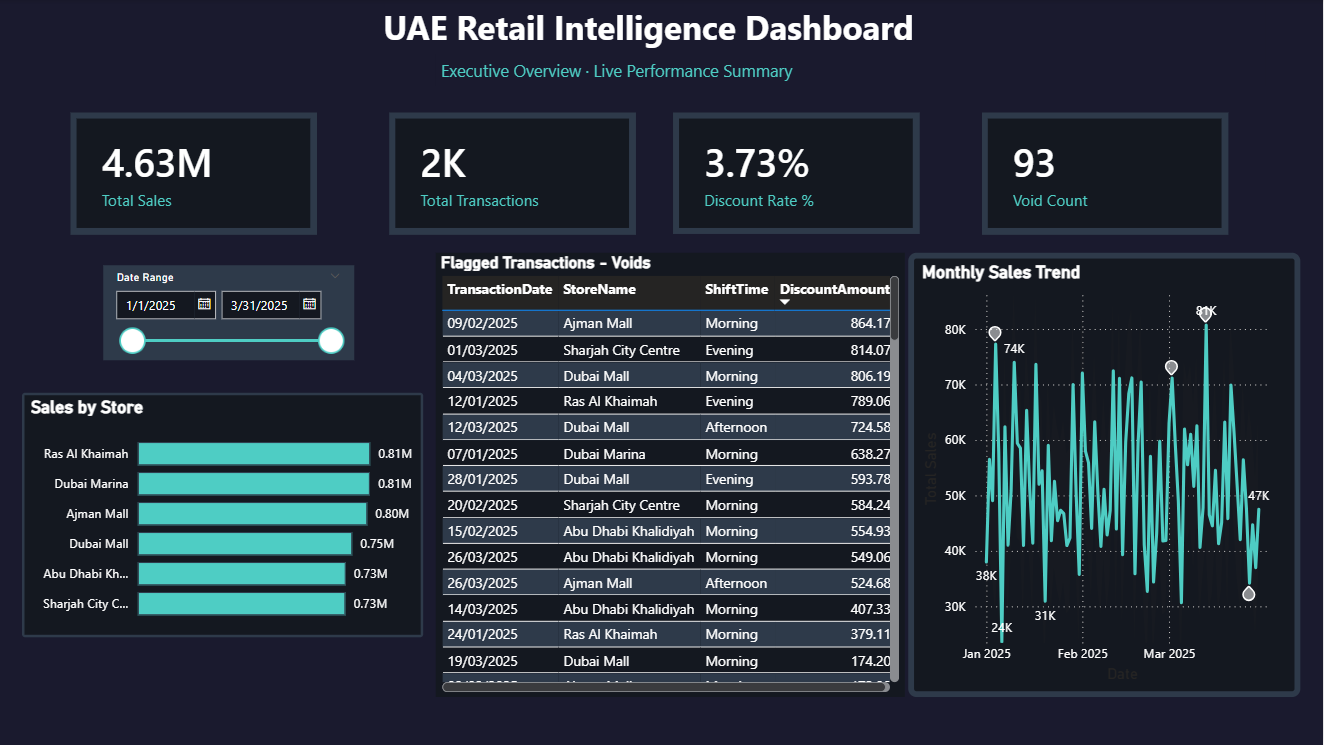

This screenshot's page, from the dashboard's own definition file:
{"tool":"powerbi","page":{"name":"Executive Overview","canvas":[1280,720],"ordinal":0},"visuals":[{"type":"cardVisual","fields":{"Data":["_Measures.Total Sales"]},"box":[71.2,110,237.5,117.5],"z":0},{"type":"textbox","box":[33.8,0,1190,103.8],"z":1000},{"type":"textbox","box":[423.8,52.5,656.2,147.5],"z":2000},{"type":"clusteredBarChart","title":"Sales by Store","fields":{"Category":["UAE_Retail_Transactions.StoreName"],"Y":["_Measures.Total Sales"]},"box":[23.8,380,387.5,236.2],"z":3000},{"type":"lineChart","title":"Monthly Sales Trend","fields":{"Y":["_Measures.Total Sales"],"Category":["DateTable.Date"]},"box":[880,245,378.8,428.8],"z":4000},{"type":"tableEx","title":"Flagged Transactions - Voids","fields":{"Values":["UAE_Retail_Transactions.TransactionDate","UAE_Retail_Transactions.StoreName","UAE_Retail_Transactions.ShiftTime","UAE_Retail_Transactions.DiscountAmount"]},"box":[423.8,245,452.5,428.8],"z":5000},{"type":"slicer","fields":{"Values":["DateTable.Date"]},"box":[102.5,257.5,241.2,91.2],"z":6000},{"type":"cardVisual","fields":{"Data":["_Measures.Total Transactions"]},"box":[378.8,110,237.5,117.5],"z":7000},{"type":"cardVisual","fields":{"Data":["_Measures.Discount Rate %"]},"box":[652.5,110,237.5,117],"z":8000},{"type":"cardVisual","fields":{"Data":["_Measures.Void Count"]},"box":[951.2,110,237.5,117.5],"z":9000}]}

Visuals, with their boxes in screenshot pixels (x1, y1, x2, y2), scaled from the page's 1280x720 canvas onto the 1324x745 screenshot:
cardVisual - _Measures.Total Sales: Rect(74, 114, 319, 235)
textbox: Rect(35, 0, 1266, 107)
textbox: Rect(438, 54, 1117, 207)
"Sales by Store" clusteredBarChart: Rect(25, 393, 425, 638)
"Monthly Sales Trend" lineChart: Rect(910, 254, 1302, 697)
"Flagged Transactions - Voids" tableEx: Rect(438, 254, 906, 697)
slicer - DateTable.Date: Rect(106, 266, 356, 361)
cardVisual - _Measures.Total Transactions: Rect(392, 114, 637, 235)
cardVisual - _Measures.Discount Rate %: Rect(675, 114, 921, 235)
cardVisual - _Measures.Void Count: Rect(984, 114, 1230, 235)
